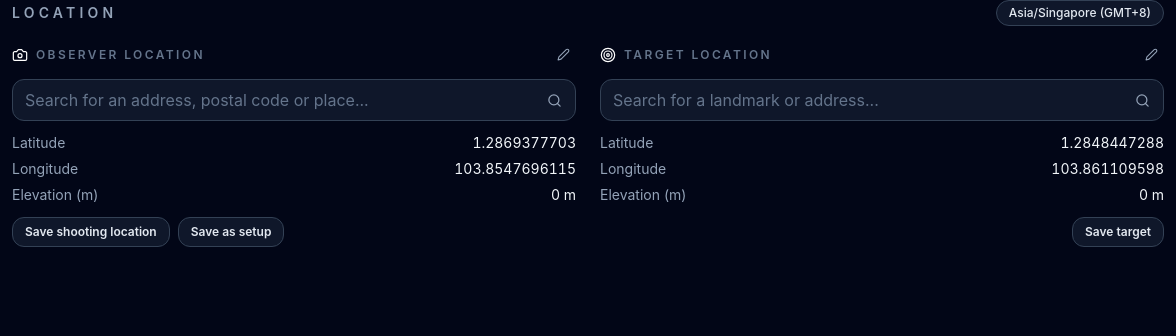
Test case: LocationControls › saves a setup combining the target and observer location
Click the button with test id "save-setup-button" at (231, 232), box [178, 217, 284, 247]
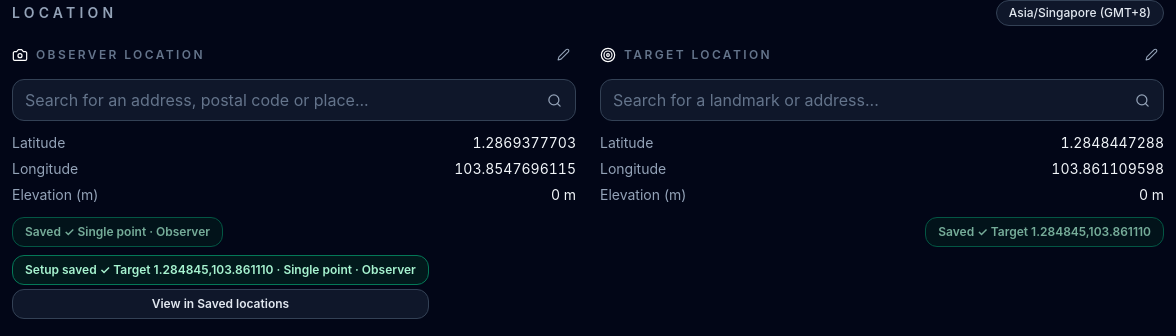
Now the text with test id "saved-setup-button" shows "Setup saved ✓", box [25, 262, 113, 277]
